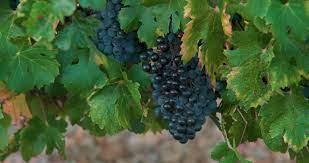Grape Rotten: (138, 20, 218, 144), (90, 1, 140, 63)
